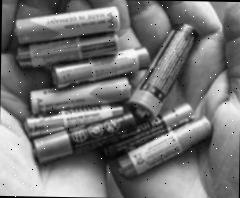electronic: (116, 13, 200, 128)
